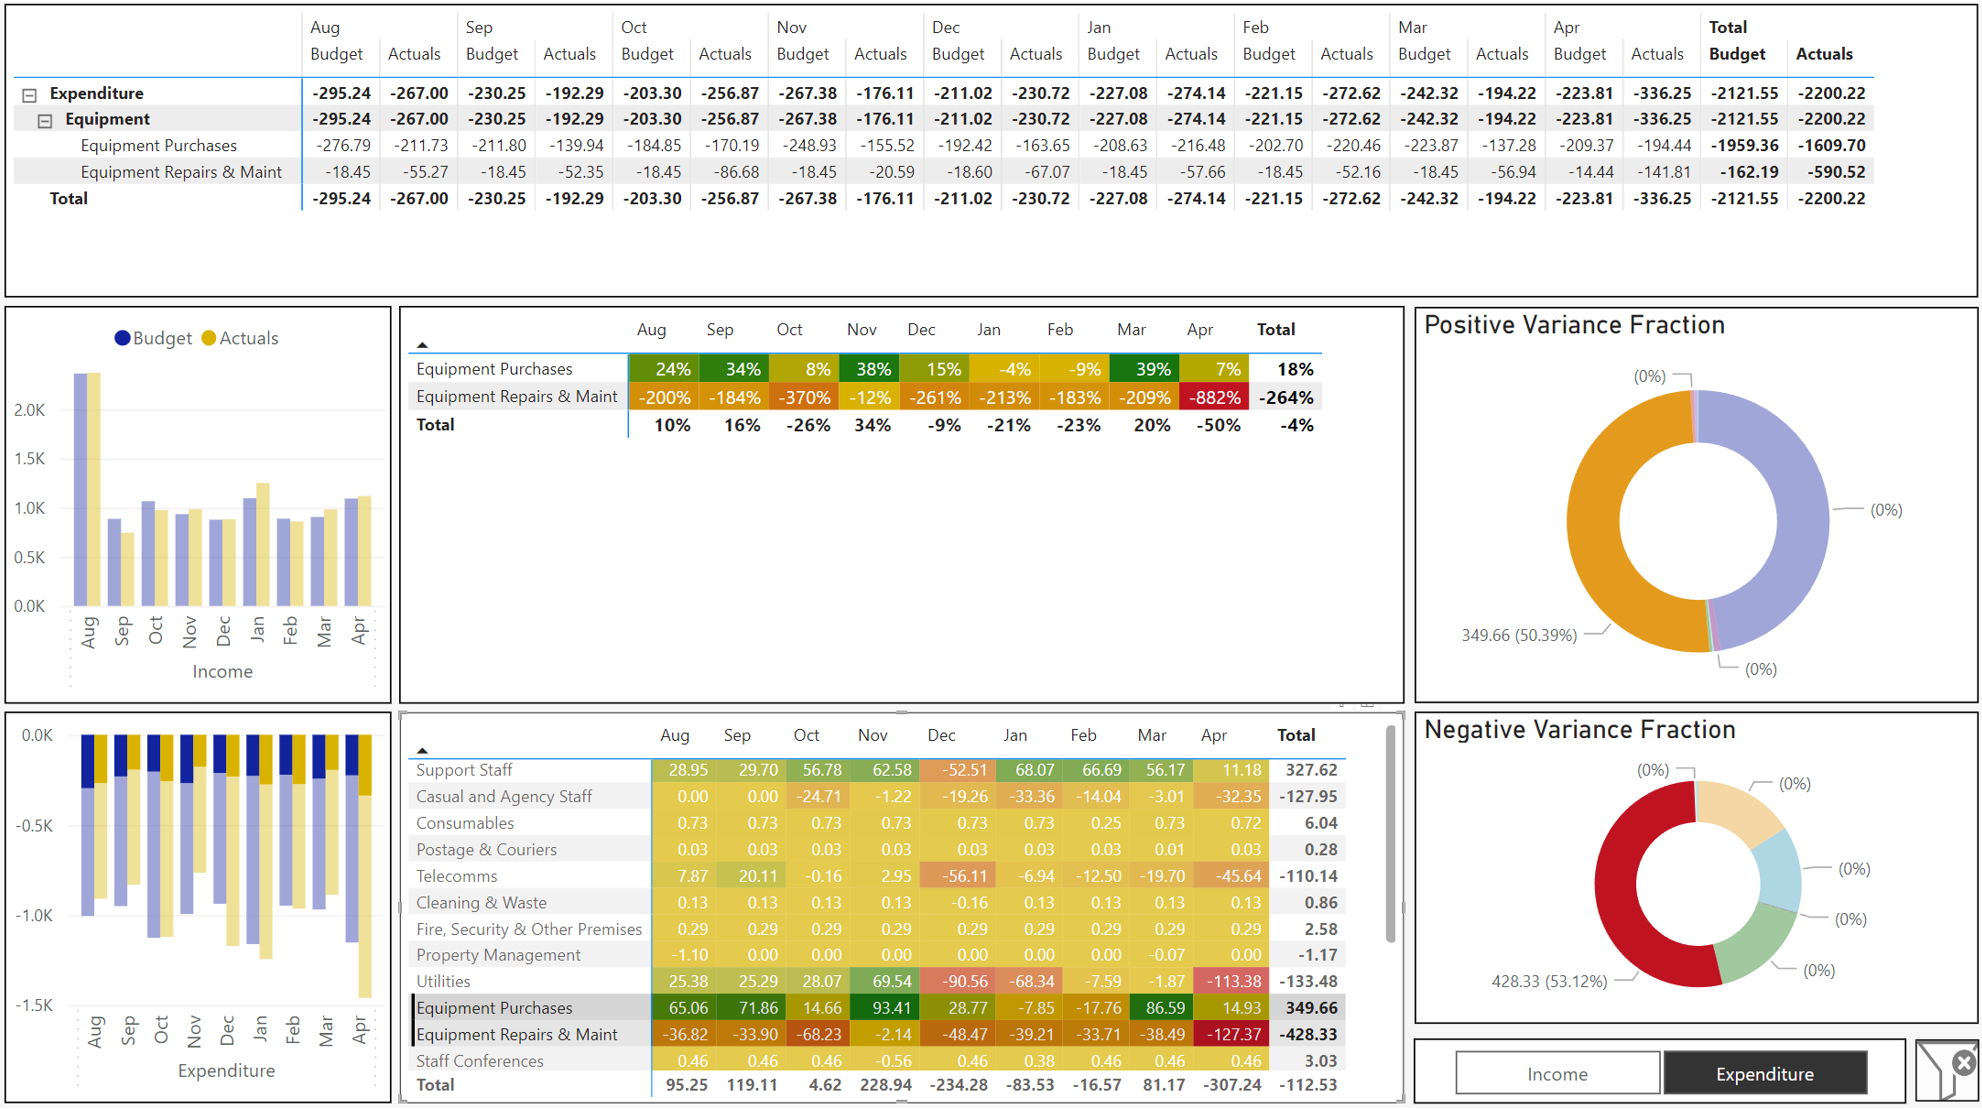

What the dashboard file says about the page in this screenshot:
{"tool":"powerbi","page":{"name":"Page 1","canvas":[1280,720],"ordinal":0},"visuals":[{"type":"slicer","fields":{"Values":["IE_Data.IE"]},"box":[46.7,596.5,150.5,49.8],"z":0},{"type":"slicer","fields":{"Values":["IE_Data.IE"]},"box":[98.3,247.6,143.8,51.6],"z":1000},{"type":"clusteredColumnChart","title":"Income by Month","fields":{"Category":["IE_Data.IE","IE_Data.Month"],"Y":["Sum(IE_Data.Budget)","Sum(IE_Data.Actuals)"]},"box":[4.9,460.8,249.4,251.9],"z":2000},{"type":"clusteredColumnChart","title":"Income by Month","fields":{"Category":["IE_Data.IE","IE_Data.Month"],"Y":["IE_Data.Budget_ABS","IE_Data.Actuals_ABS"]},"box":[4.9,199.7,249.4,256.2],"z":3000},{"type":"pivotTable","fields":{"Rows":["IE_Data.IE","IE_Data.Category","IE_Data.Subcategory"],"Columns":["IE_Data.Month"],"Values":["Sum(IE_Data.Budget)","Sum(IE_Data.Actuals)"]},"box":[4.9,5.5,1269.8,188.6],"z":4000},{"type":"pivotTable","fields":{"Columns":["IE_Data.Month"],"Values":["IE_Data.Varience"],"Rows":["IE_Data.Subcategory"]},"box":[258.6,460.8,646.9,251.9],"z":5000},{"type":"pivotTable","fields":{"Rows":["IE_Data.Subcategory"],"Columns":["IE_Data.Month"],"Values":["IE_Data.Varience %"]},"box":[258.6,199.7,646.9,256.2],"z":6000},{"type":"slicer","fields":{"Values":["IE_Data.IE"]},"box":[911.7,670.9,317,41.8],"z":7000},{"type":"donutChart","title":"Positive Variance Fraction","fields":{"Y":["IE_Data.Variance_Positive"],"Category":["IE_Data.Subcategory"]},"box":[911.9,200.2,362.8,255.5],"z":8000},{"type":"donutChart","title":"Negative Variance Fraction","fields":{"Category":["IE_Data.Subcategory"],"Y":["IE_Data.Variance_Negative"]},"box":[911.9,460.9,362.8,201.5],"z":9000},{"type":"actionButton","box":[1234.2,671.5,40.5,39.9],"z":9001}]}

Visuals, with their boxes in screenshot pixels (x1, y1, x2, y2), scaled from the page's 1280x720 canvas onto the 1982x1109 screenshot:
slicer - IE_Data.IE: select_region(72, 919, 305, 995)
slicer - IE_Data.IE: select_region(152, 381, 375, 461)
"Income by Month" clusteredColumnChart: select_region(8, 710, 394, 1098)
"Income by Month" clusteredColumnChart: select_region(8, 308, 394, 702)
pivotTable - IE_Data.IE x IE_Data.Category: select_region(8, 8, 1974, 299)
pivotTable - IE_Data.Month x IE_Data.Varience: select_region(400, 710, 1402, 1098)
pivotTable - IE_Data.Subcategory x IE_Data.Month: select_region(400, 308, 1402, 702)
slicer - IE_Data.IE: select_region(1412, 1033, 1903, 1098)
"Positive Variance Fraction" donutChart: select_region(1412, 308, 1974, 702)
"Negative Variance Fraction" donutChart: select_region(1412, 710, 1974, 1020)
actionButton: select_region(1911, 1034, 1974, 1096)
